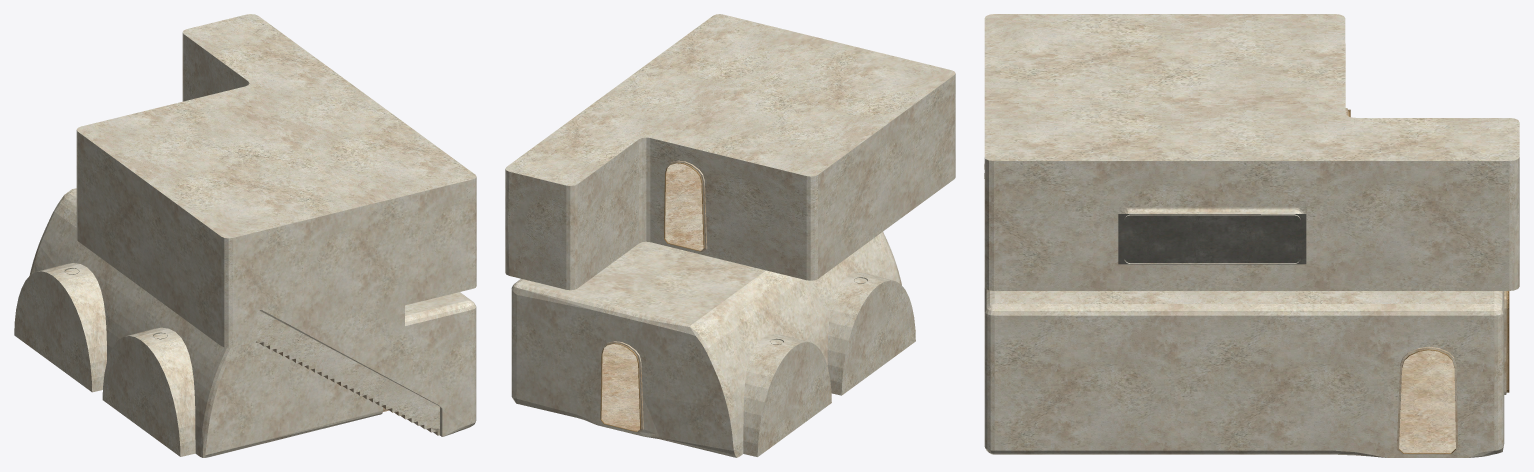
The model's file is ply_tato_house_lg_s01_fp1_r4_office_mesh_r4.fbx.
3 renders of one model, left to right at view 1: azimuth 30°, elevation 25°; view 2: azimuth 150°, elevation 25°; view 3: azimuth 270°, elevation 25°, orthographic. The views are drawn at different scales.
Visible parts, largest first — view 1: mesh_node; view 2: mesh_node; view 3: mesh_node.
Boxes of the visible parts, bbox=[...] form: mesh_node: bbox=[14, 14, 476, 457]; mesh_node: bbox=[505, 14, 955, 457]; mesh_node: bbox=[984, 14, 1519, 457].
Size of the model in its own units: 8.75 by 8 by 13.07.
